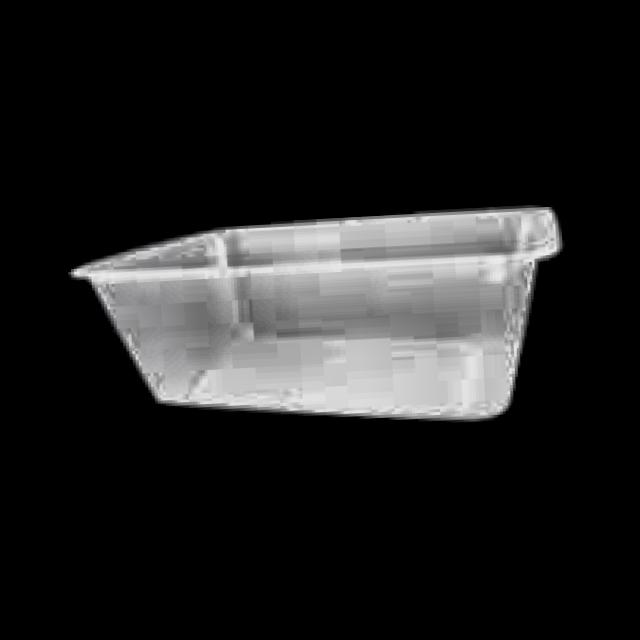plastic container: (72, 206, 560, 419)
